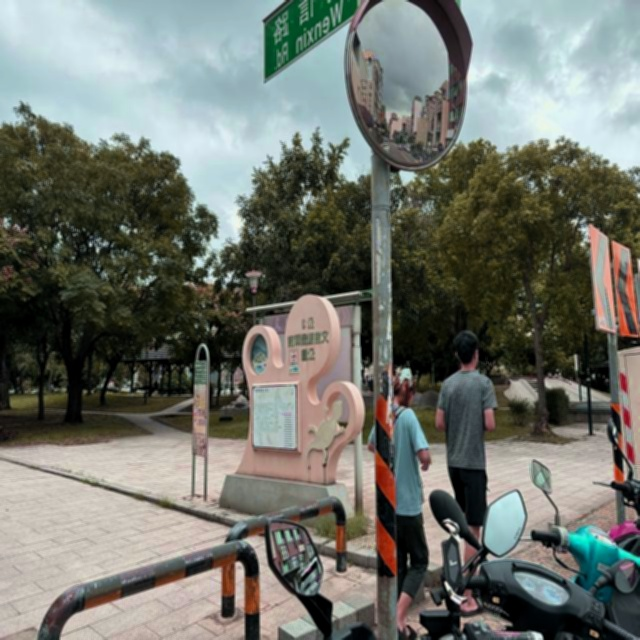Sin_Casco_Mascarrilla: (455, 331, 479, 368), (394, 369, 414, 403)
Sin_Chaleco: (444, 374, 486, 467), (393, 406, 416, 520)
